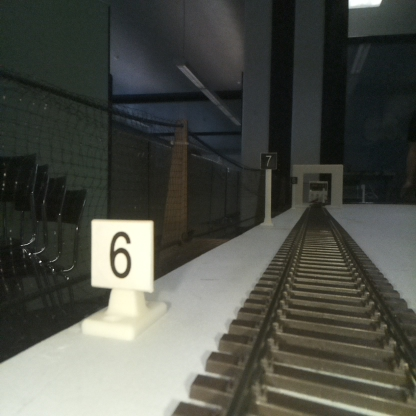black-info-7: (261, 152, 276, 227)
white-stop-6: (91, 220, 152, 333)
